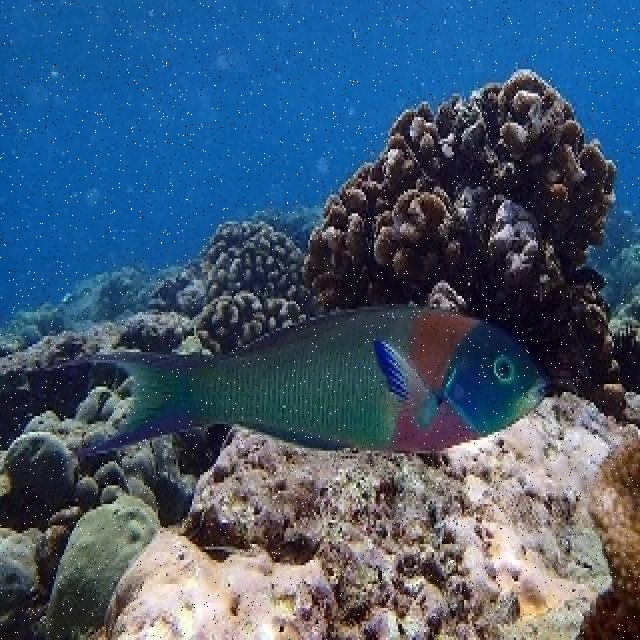fish: (75, 307, 548, 458)
reefs: (303, 157, 566, 386)
